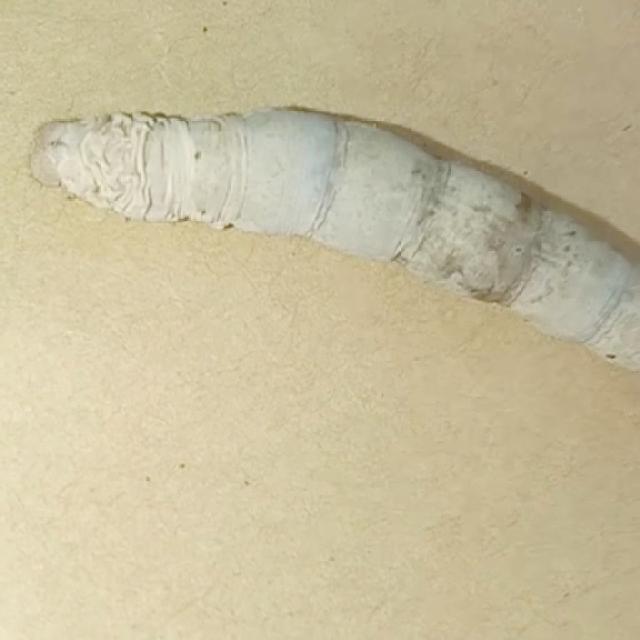Grasserie: (20, 63, 640, 380)
